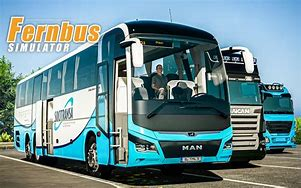bigcar: (10, 20, 252, 173)
